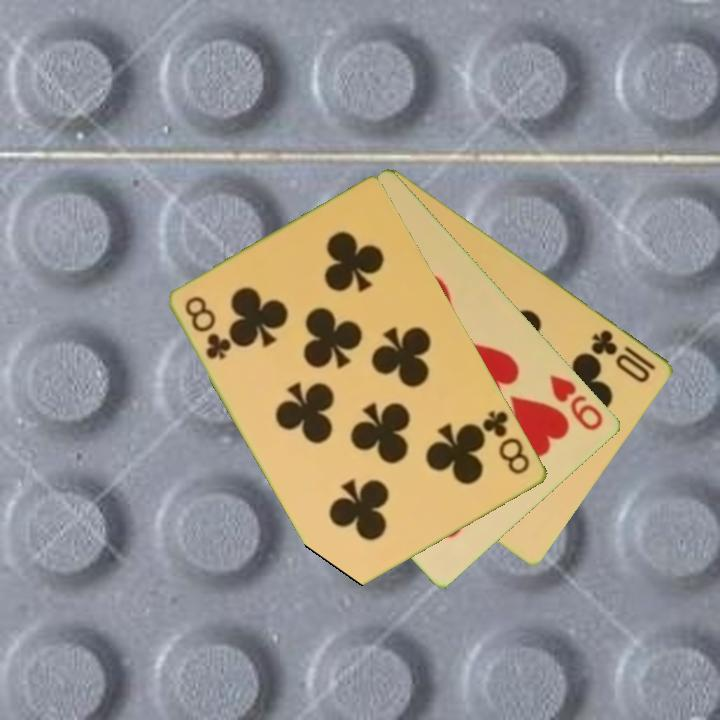10c: (588, 326, 659, 386)
8c: (479, 406, 534, 478), (181, 292, 235, 363)
9h: (546, 371, 607, 434)
